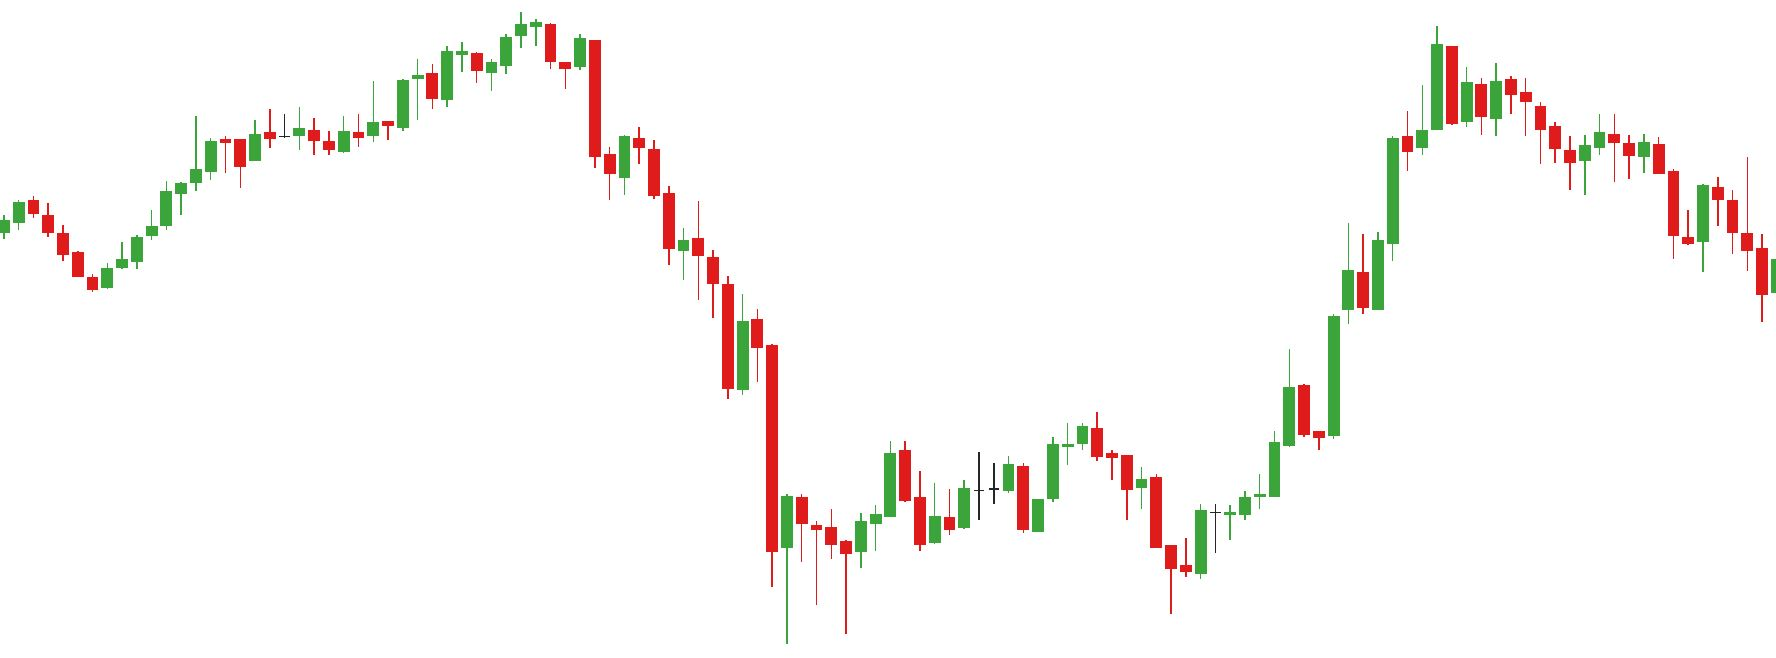buy: (913, 477, 1210, 614)
